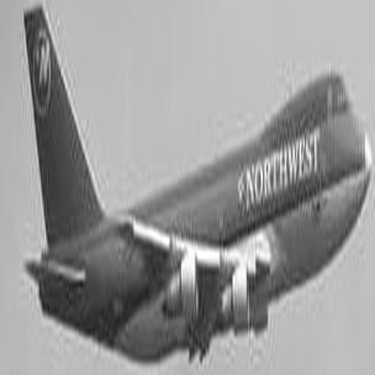airplane: (6, 1, 371, 372)
